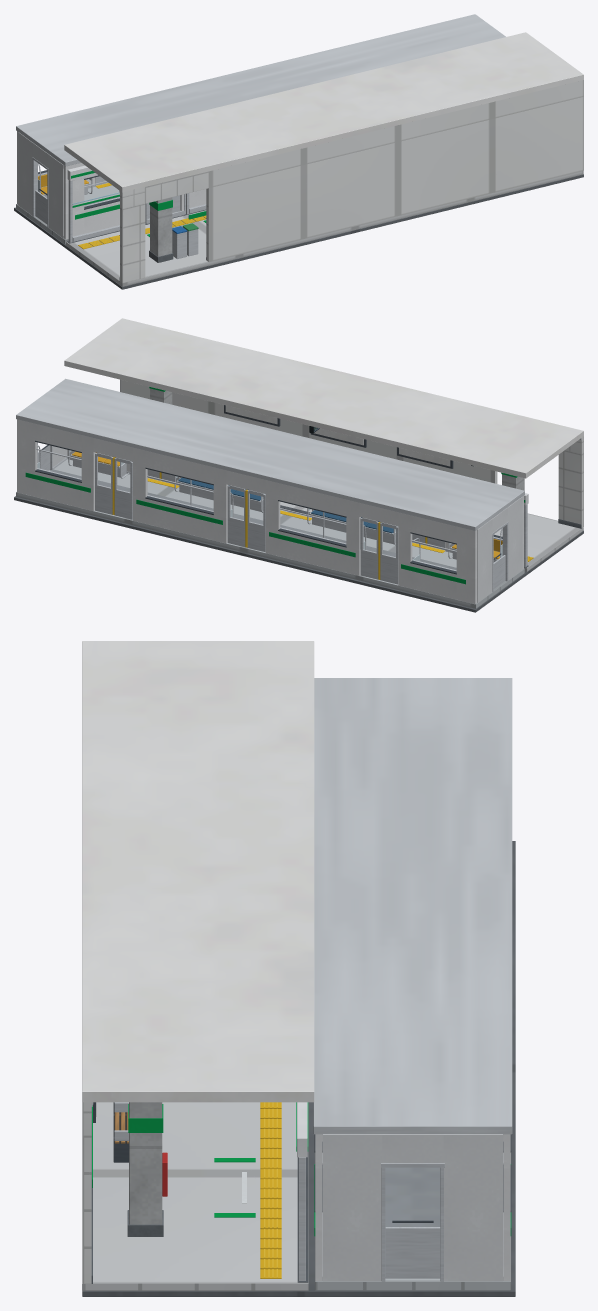
Rendered from mobile.glb.
The picture shows the model from 3 angles, top to bottom: view 1: azimuth 30°, elevation 25°; view 2: azimuth 150°, elevation 25°; view 3: azimuth 270°, elevation 25°; orthographic projection. The views are drawn at different scales.
Parts seen in each view (by area): view 1: BG_Cutaway_Front, BG_Ceiling, BG_Shell_Fixed, BG_Furnishings; view 2: BG_Ceiling, BG_Shell_Fixed, BG_Cutaway_Front, BG_Furnishings; view 3: BG_Ceiling, BG_Shell_Fixed, BG_Cutaway_Front, BG_Furnishings.
Part boxes in pixels (x1=…): BG_Cutaway_Front: x1=18, y1=80, x2=583, y2=283; BG_Ceiling: x1=16, y1=14, x2=583, y2=192; BG_Shell_Fixed: x1=14, y1=131, x2=583, y2=289; BG_Furnishings: x1=38, y1=163, x2=198, y2=258; BG_Ceiling: x1=16, y1=318, x2=583, y2=530; BG_Shell_Fixed: x1=14, y1=387, x2=583, y2=612; BG_Cutaway_Front: x1=67, y1=379, x2=583, y2=602; BG_Furnishings: x1=37, y1=445, x2=502, y2=571; BG_Ceiling: x1=82, y1=641, x2=512, y2=1134; BG_Shell_Fixed: x1=82, y1=841, x2=515, y2=1296; BG_Cutaway_Front: x1=82, y1=1102, x2=322, y2=1283; BG_Furnishings: x1=113, y1=1102, x2=167, y2=1196.
Bounding box in the file's own units: 16 × 3.4 × 6.5.
2 materials, 2 textured.
